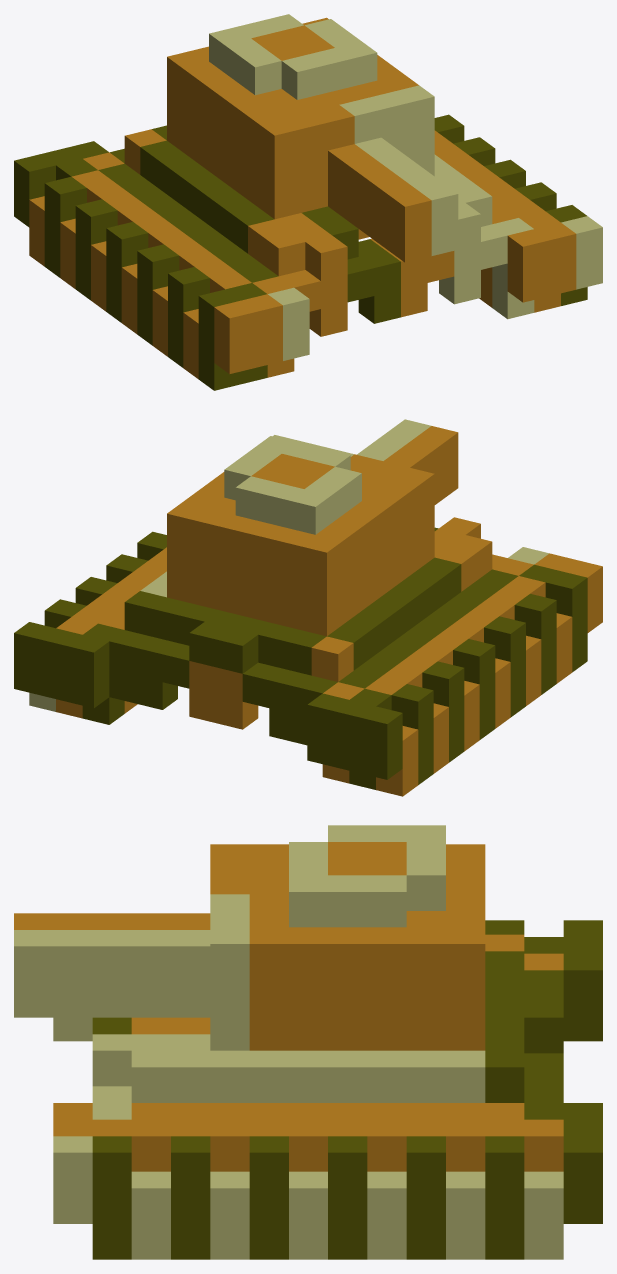
The model's file is super_yellow_tank.glb.
3 views of the same model, one above another, from view 1: azimuth 30°, elevation 25°; view 2: azimuth 150°, elevation 25°; view 3: azimuth 270°, elevation 25° (orthographic). The views are drawn at different scales.
Visible parts, largest first — view 1: Object_2.002; view 2: Object_2.002; view 3: Object_2.002.
Part boxes in pixels (x1=…): Object_2.002: x1=14, y1=14, x2=602, y2=390; Object_2.002: x1=14, y1=419, x2=602, y2=796; Object_2.002: x1=14, y1=825, x2=602, y2=1259.
Size of the model in its own units: 14 by 8 by 15.
Materials: 1 (1 with a texture image).
